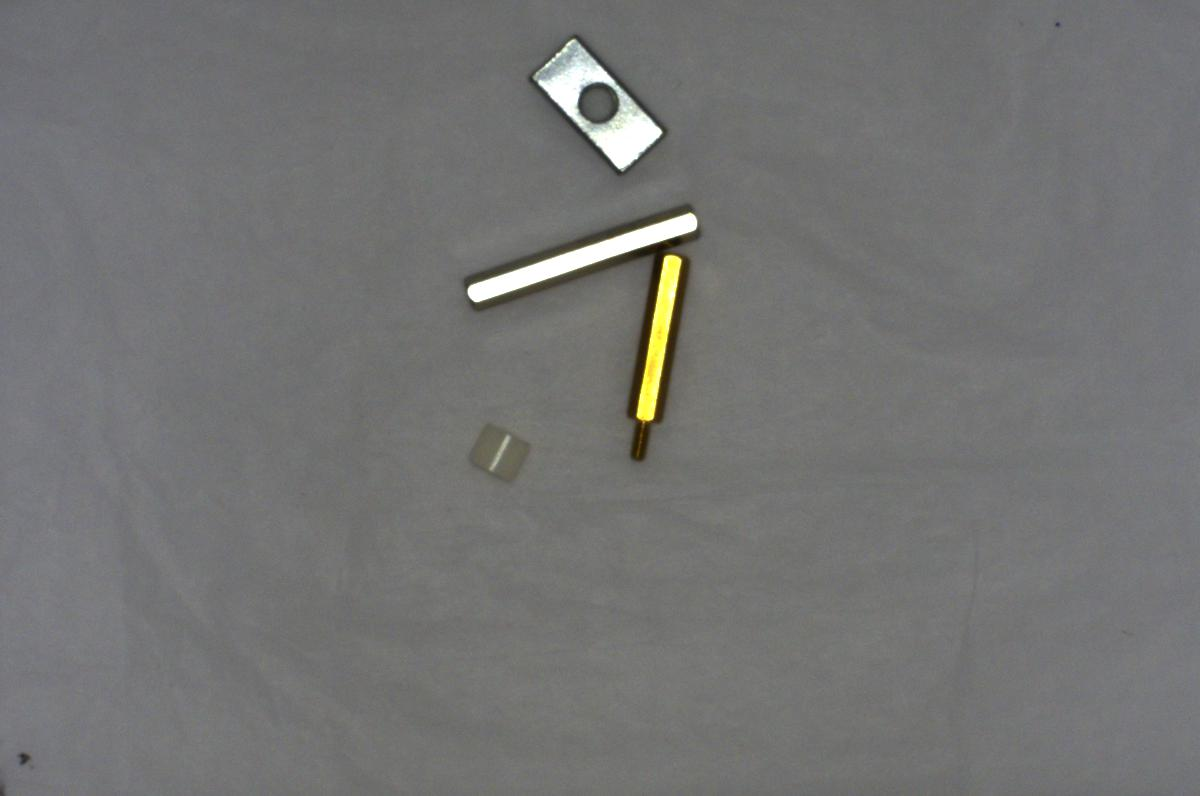Double hexagonal column: (462, 196, 707, 309)
Hexagon pillar: (621, 248, 701, 465)
Plastic cushion pillar: (460, 416, 532, 486)
Rectangular nut: (526, 30, 670, 178)
